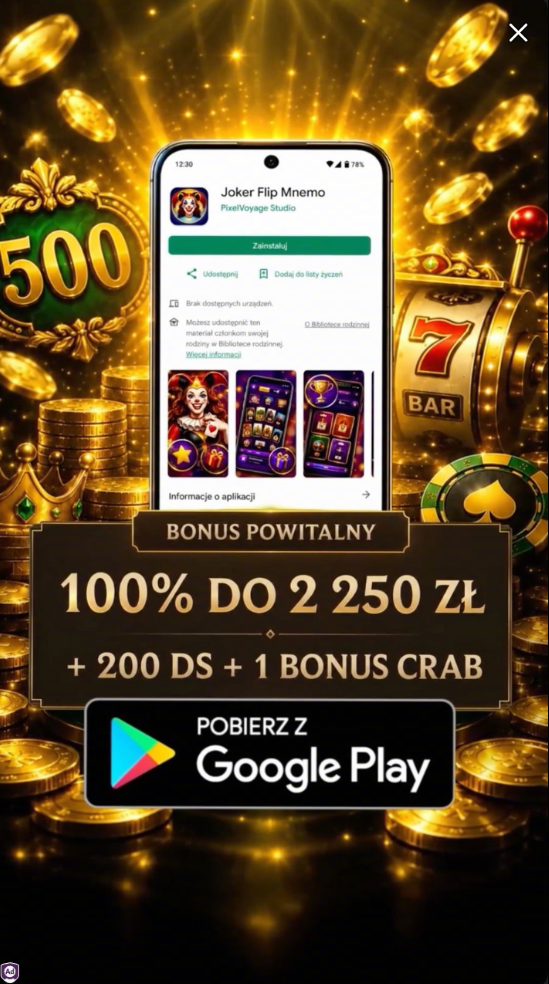close_button: (501, 17, 534, 49)
